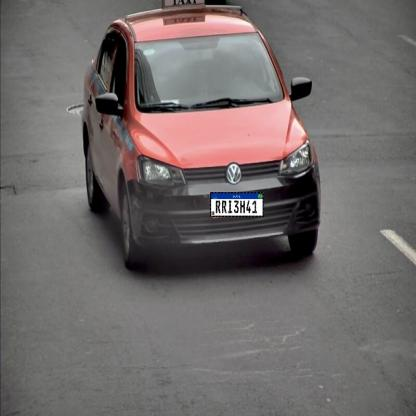PlacaM: (210, 192, 264, 217)
